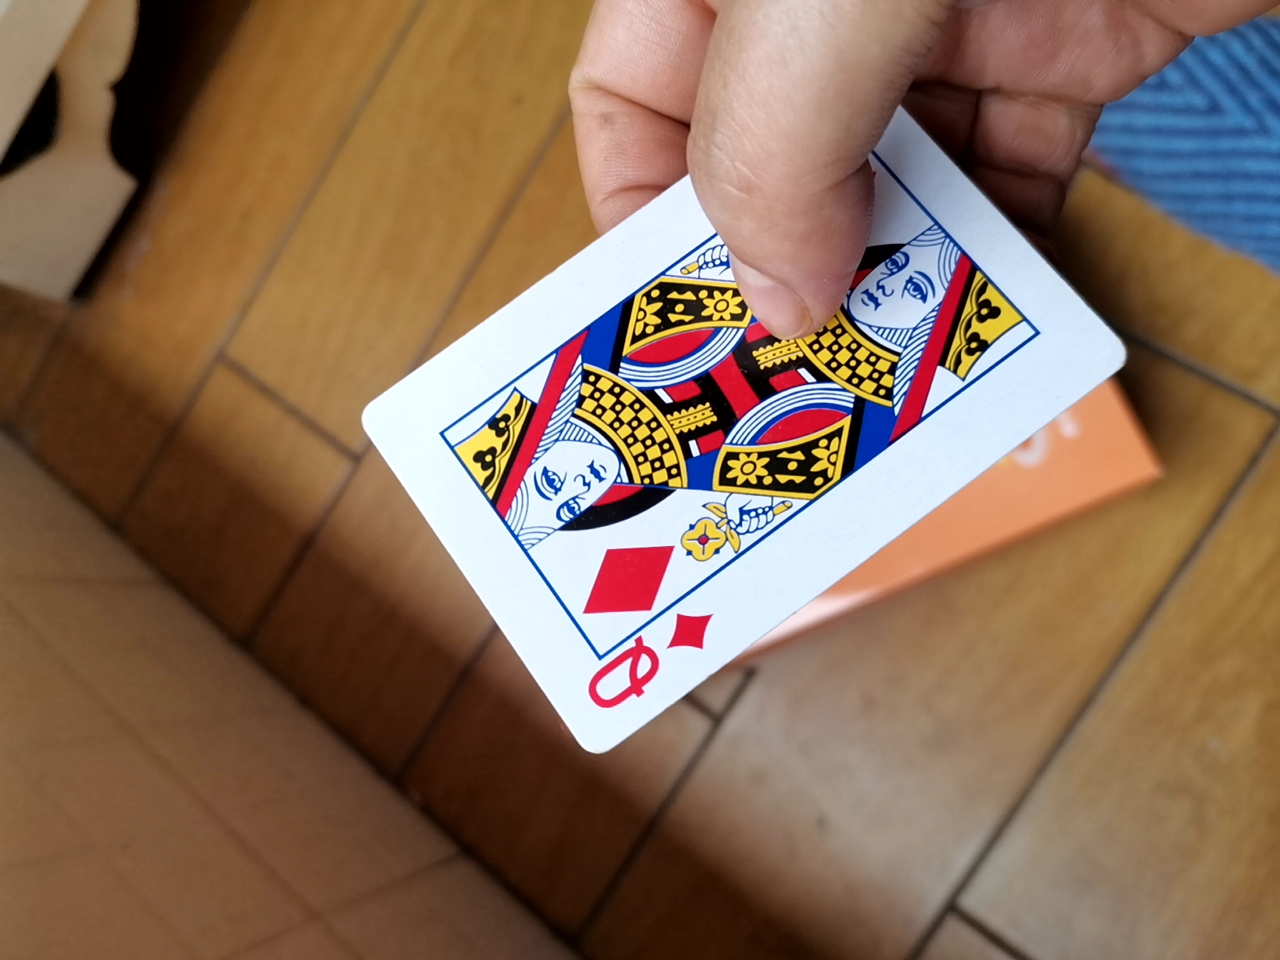fk q: (329, 140, 1114, 749)
